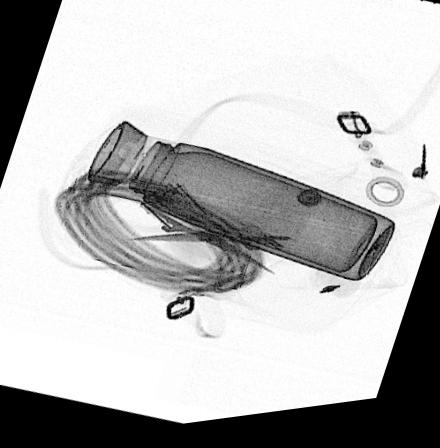Scissors: (115, 197, 310, 283)
